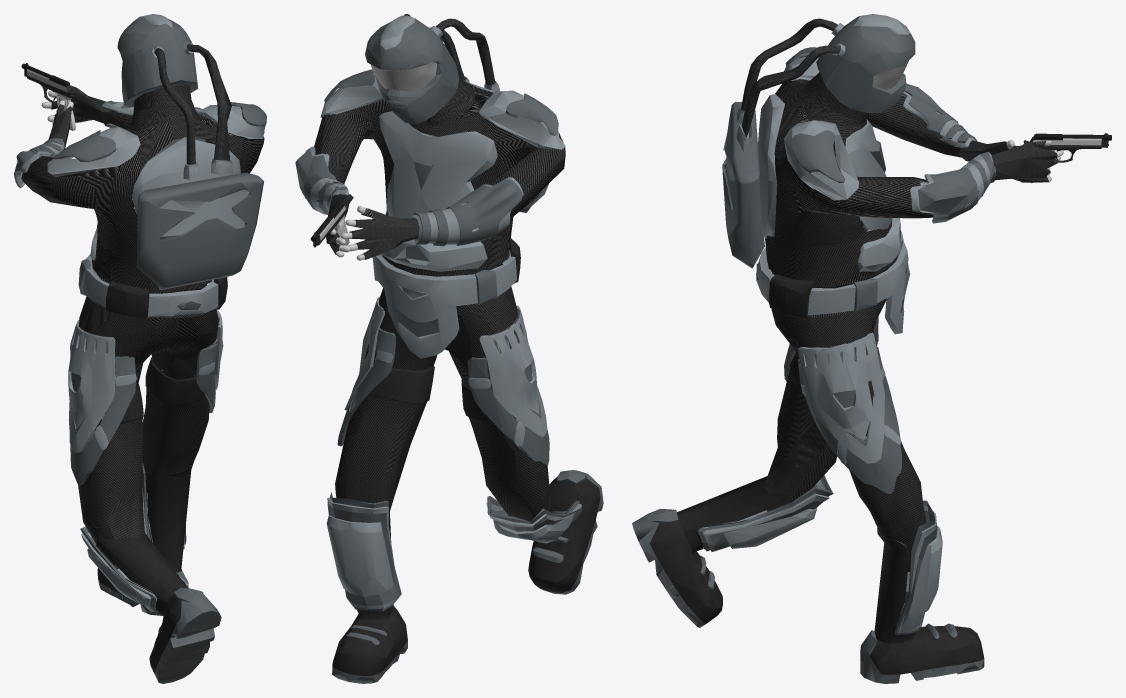
The picture shows the model from 3 angles, left to right: view 1: azimuth 30°, elevation 25°; view 2: azimuth 150°, elevation 25°; view 3: azimuth 270°, elevation 25°; orthographic projection. The views are drawn at different scales.
Visible parts, largest first — view 1: personajeskefix:personaje:extrudedSurface2 polySurface52, personajeskefix:personaje:PANTALON polySurface52, personajeskefix:personaje:CAMISETABUENA polySurface52, personajeskefix:personaje:bota1 polySurface52, personajeskefix:personaje:pPipe4 polySurface52, personajeskefix:personaje:cosoarmdaurapierna1 polySurface52, personajeskefix:personaje:pCube4 polySurface52, personajeskefix:personaje:cinturon polySurface52, personajeskefix:personaje:polySurface6 polySurface52, personajeskefix:personaje:armadbota1 polySurface52, personajeskefix:personaje:polySurface11 polySurface52, personajeskefix:personaje:HOMBRO2 polySurface52 (+5 smaller); view 2: personajeskefix:personaje:pPipe4 polySurface52, personajeskefix:personaje:PANTALON polySurface52, personajeskefix:personaje:CAMISETABUENA polySurface52, personajeskefix:personaje:bota1 polySurface52, personajeskefix:personaje:cinturon polySurface52, personajeskefix:personaje:pCube4 polySurface52, personajeskefix:personaje:extrudedSurface2 polySurface52, personajeskefix:personaje:armadbota1 polySurface52, personajeskefix:personaje:cosoarmdaurapierna1 polySurface52, personajeskefix:personaje:polySurface2 polySurface52, personajeskefix:personaje:polySurface6 polySurface52, personajeskefix:personaje:cosoarmadurapierna2 polySurface52 (+8 smaller); view 3: personajeskefix:personaje:CAMISETABUENA polySurface52, personajeskefix:personaje:bota1 polySurface52, personajeskefix:personaje:pPipe4 polySurface52, personajeskefix:personaje:extrudedSurface2 polySurface52, personajeskefix:personaje:PANTALON polySurface52, personajeskefix:personaje:pCube4 polySurface52, personajeskefix:personaje:cinturon polySurface52, personajeskefix:personaje:armadbota1 polySurface52, personajeskefix:personaje:cosoarmadurapierna2 polySurface52, personajeskefix:personaje:hombro1 polySurface52, personajeskefix:personaje:polySurface2 polySurface52, personajeskefix:personaje:polySurface11 polySurface52 (+2 smaller).
Part boxes in pixels (x1,y1,x2,y2): personajeskefix:personaje:extrudedSurface2 polySurface52: (117, 14, 263, 290); personajeskefix:personaje:PANTALON polySurface52: (78, 274, 218, 570); personajeskefix:personaje:CAMISETABUENA polySurface52: (21, 85, 264, 318); personajeskefix:personaje:bota1 polySurface52: (96, 462, 221, 683); personajeskefix:personaje:pPipe4 polySurface52: (41, 85, 265, 259); personajeskefix:personaje:cosoarmdaurapierna1 polySurface52: (68, 320, 136, 452); personajeskefix:personaje:pCube4 polySurface52: (70, 310, 223, 612); personajeskefix:personaje:cinturon polySurface52: (78, 253, 227, 318); personajeskefix:personaje:polySurface6 polySurface52: (120, 357, 205, 423); personajeskefix:personaje:armadbota1 polySurface52: (81, 488, 188, 611); personajeskefix:personaje:polySurface11 polySurface52: (154, 48, 195, 164); personajeskefix:personaje:HOMBRO2 polySurface52: (54, 130, 115, 161); personajeskefix:personaje:pPipe4 polySurface52: (295, 72, 565, 271); personajeskefix:personaje:PANTALON polySurface52: (335, 260, 551, 521); personajeskefix:personaje:CAMISETABUENA polySurface52: (314, 69, 565, 297); personajeskefix:personaje:bota1 polySurface52: (332, 470, 603, 683); personajeskefix:personaje:cinturon polySurface52: (372, 238, 520, 358); personajeskefix:personaje:pCube4 polySurface52: (327, 296, 582, 611); personajeskefix:personaje:extrudedSurface2 polySurface52: (365, 14, 548, 212); personajeskefix:personaje:armadbota1 polySurface52: (326, 497, 581, 609); personajeskefix:personaje:cosoarmdaurapierna1 polySurface52: (468, 305, 547, 447); personajeskefix:personaje:polySurface2 polySurface52: (413, 179, 522, 246); personajeskefix:personaje:polySurface6 polySurface52: (369, 365, 494, 423); personajeskefix:personaje:cosoarmadurapierna2 polySurface52: (337, 328, 395, 446); personajeskefix:personaje:CAMISETABUENA polySurface52: (765, 72, 978, 316); personajeskefix:personaje:bota1 polySurface52: (632, 476, 984, 683); personajeskefix:personaje:pPipe4 polySurface52: (758, 55, 1057, 271); personajeskefix:personaje:extrudedSurface2 polySurface52: (722, 14, 915, 268); personajeskefix:personaje:PANTALON polySurface52: (763, 251, 925, 571); personajeskefix:personaje:pCube4 polySurface52: (698, 316, 937, 634); personajeskefix:personaje:cinturon polySurface52: (756, 226, 910, 334); personajeskefix:personaje:armadbota1 polySurface52: (702, 480, 942, 633); personajeskefix:personaje:cosoarmadurapierna2 polySurface52: (798, 347, 901, 493); personajeskefix:personaje:hombro1 polySurface52: (791, 130, 844, 182); personajeskefix:personaje:polySurface2 polySurface52: (904, 83, 977, 142); personajeskefix:personaje:polySurface11 polySurface52: (741, 18, 837, 111).
Bounding box in the file's own units: 3.64 × 9.38 × 6.27.
